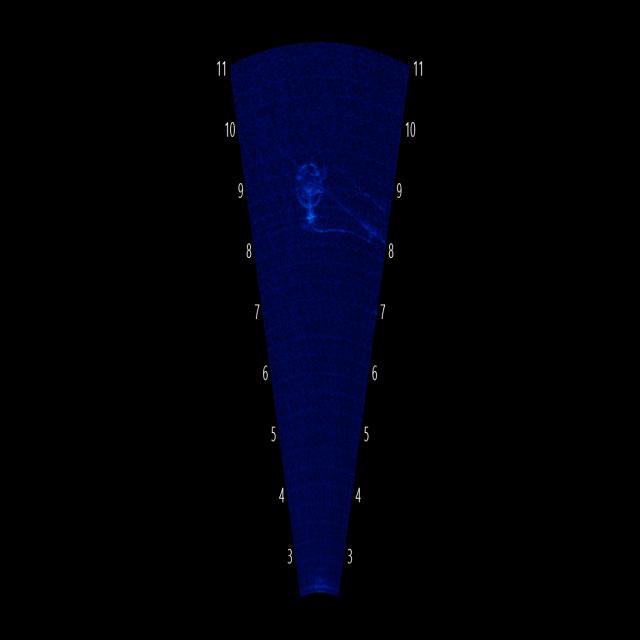circle: (287, 120, 328, 223)
